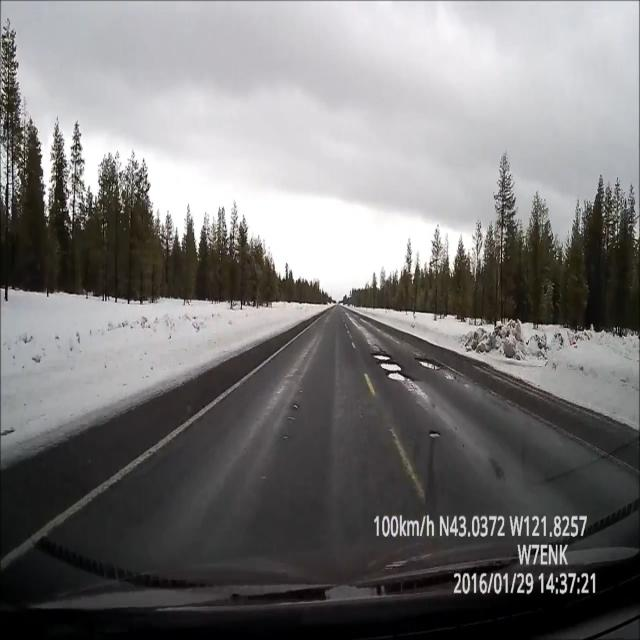Pothole: (368, 344, 417, 395), (412, 331, 443, 378)
